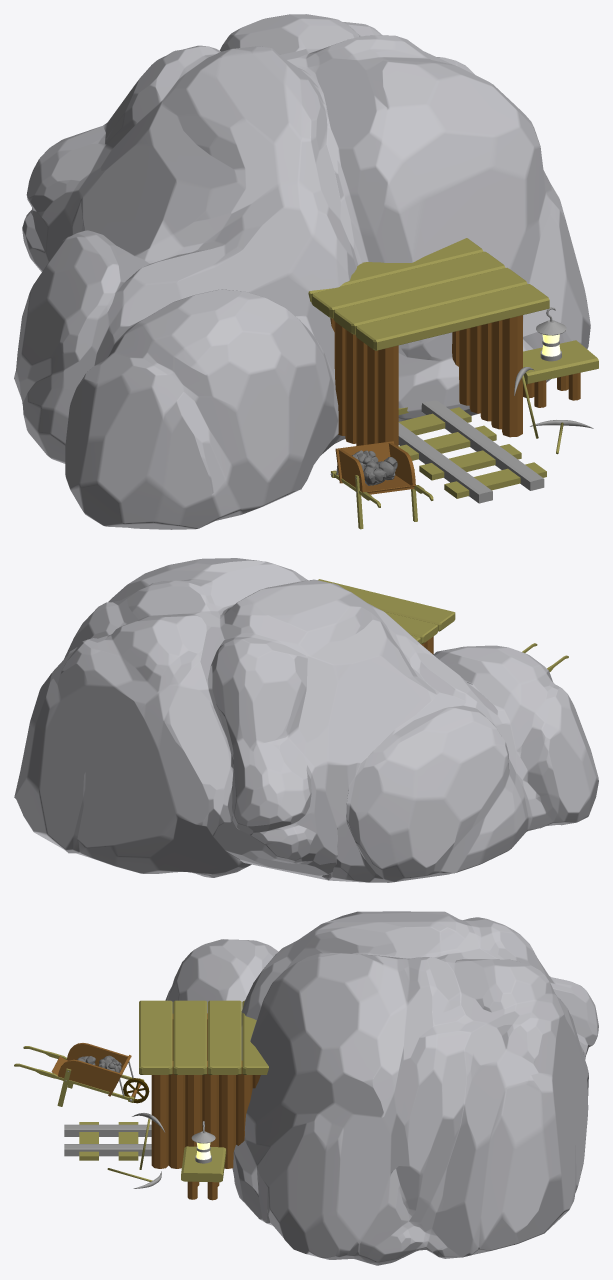
The model's file is Mine.gltf.
The picture shows the model from 3 angles, top to bottom: view 1: azimuth 30°, elevation 25°; view 2: azimuth 150°, elevation 25°; view 3: azimuth 270°, elevation 25°; orthographic projection. The views are drawn at different scales.
Parts seen in each view (by area): view 1: Big, Ceiling, WoodWall, Iron, Wood, Wheel, SmallTable, Lamp; view 2: Big, Ceiling; view 3: Big, Ceiling, WoodWall, Wheel, Iron, SmallTable, Wood, Lamp.
Part boxes in pixels (x1,y1,x2,y2): Big: [14, 14, 590, 529]; Ceiling: [308, 238, 549, 350]; WoodWall: [330, 315, 522, 446]; Iron: [398, 400, 544, 503]; Wood: [398, 407, 546, 498]; Wheel: [330, 441, 433, 529]; SmallTable: [523, 340, 598, 407]; Lamp: [536, 307, 566, 361]; Big: [14, 558, 598, 882]; Ceiling: [318, 579, 455, 643]; Big: [165, 911, 598, 1265]; Ceiling: [139, 1000, 268, 1074]; WoodWall: [151, 1013, 260, 1168]; Wheel: [14, 1043, 149, 1106]; Iron: [64, 1124, 151, 1156]; SmallTable: [181, 1146, 226, 1200]; Wood: [79, 1122, 138, 1160]; Lamp: [191, 1121, 215, 1163].
Bounding box in the file's own units: 9.22 × 4.92 × 10.42.
